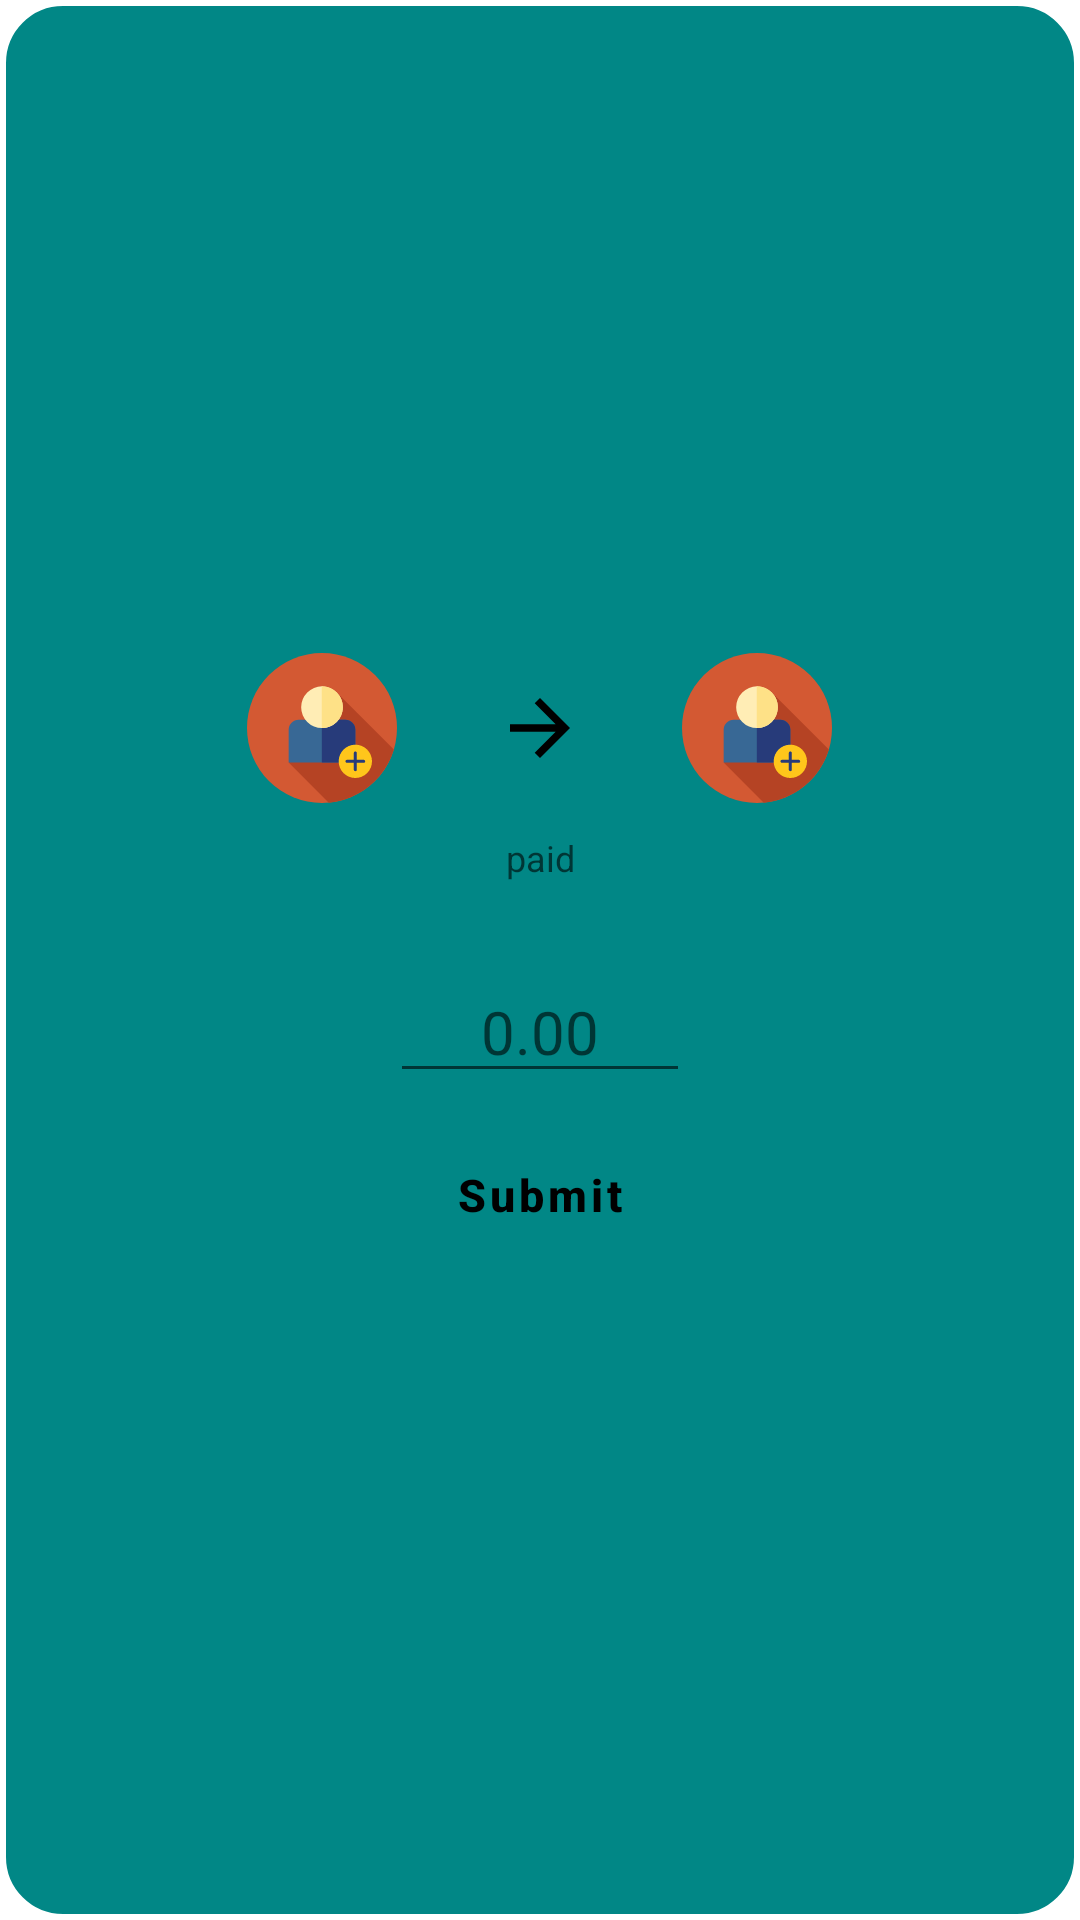

Named icons in this screenshot (1080x1920) and their bounding boxes, bbox=(x1, y1, x2, y2):
arrow forward: bbox=(510, 698, 570, 758)
profile: bbox=(247, 653, 397, 803), bbox=(682, 653, 832, 803)
